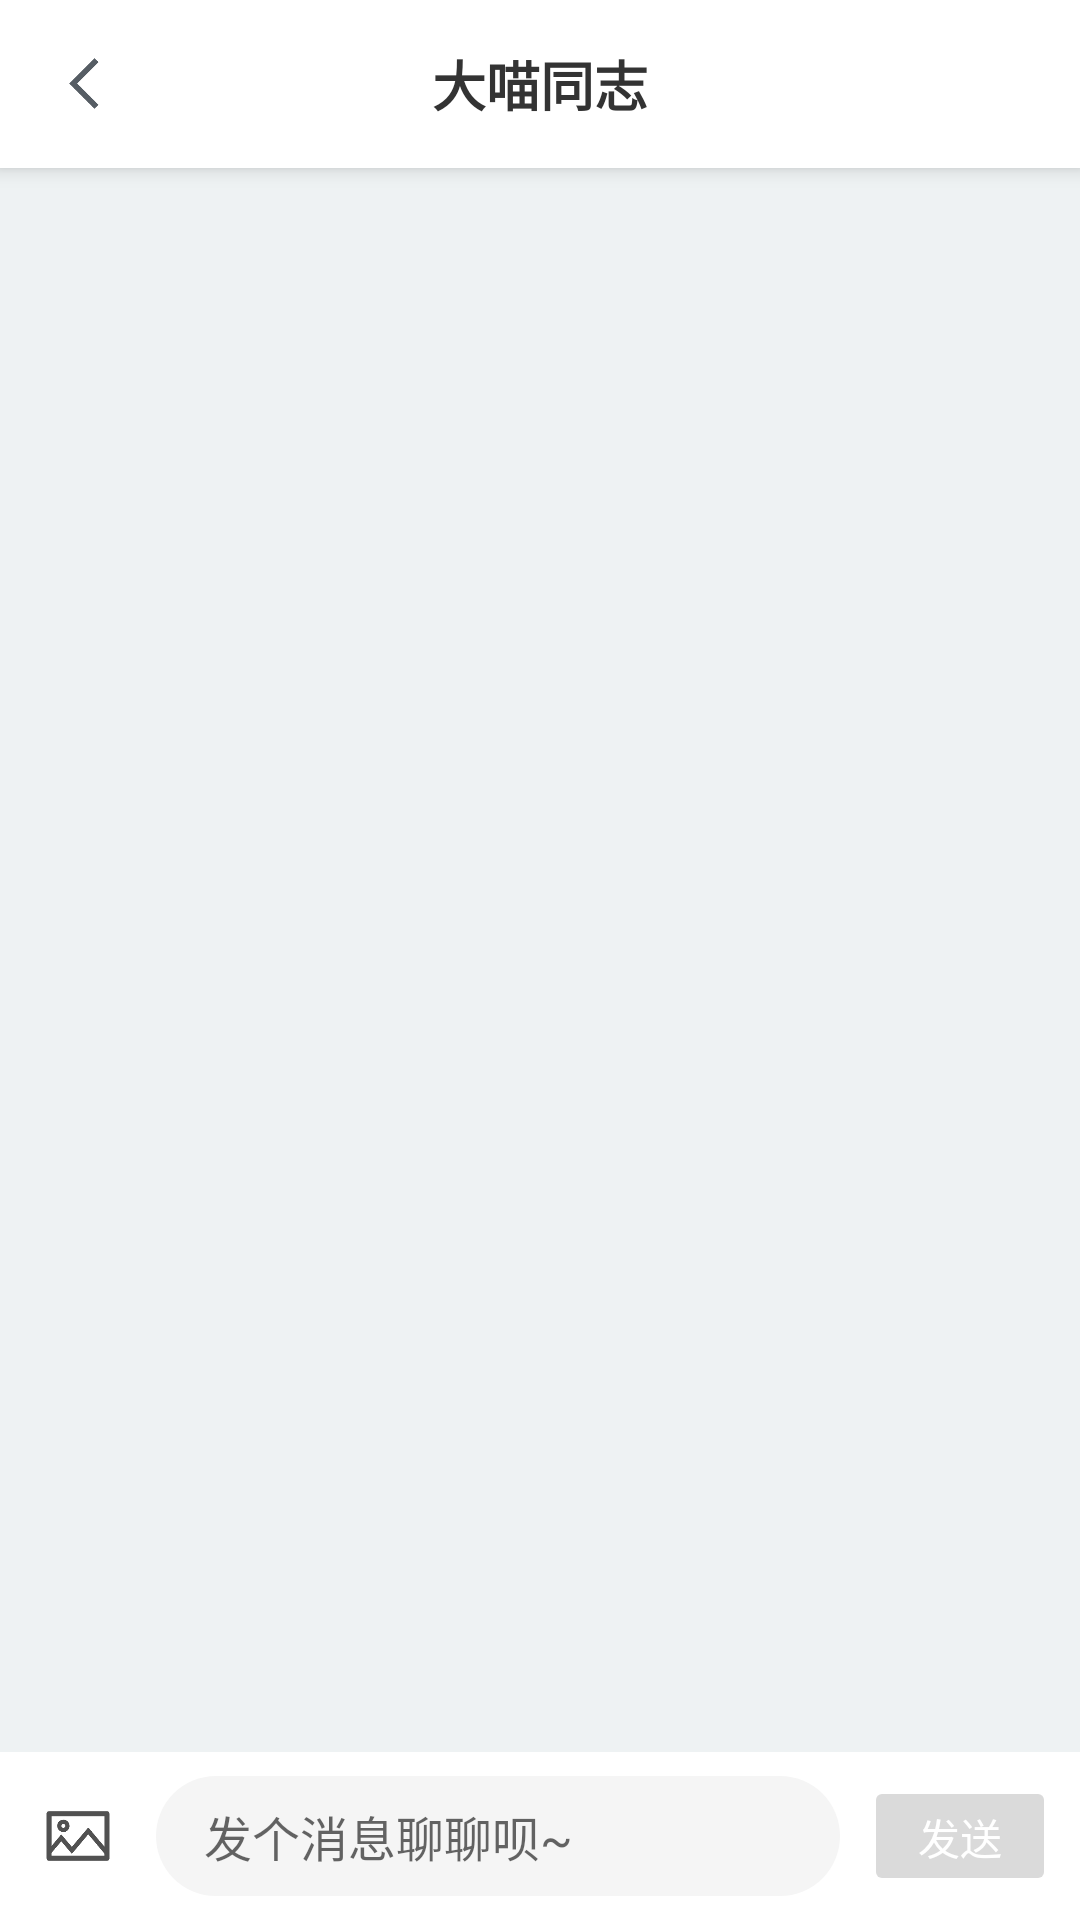

Screen size 1080px x 1920px. Icon name, then its box in pixels as (x1, y1, x2, y2):
发送图片: (46, 1811, 110, 1861)
返回: (69, 58, 98, 109)
